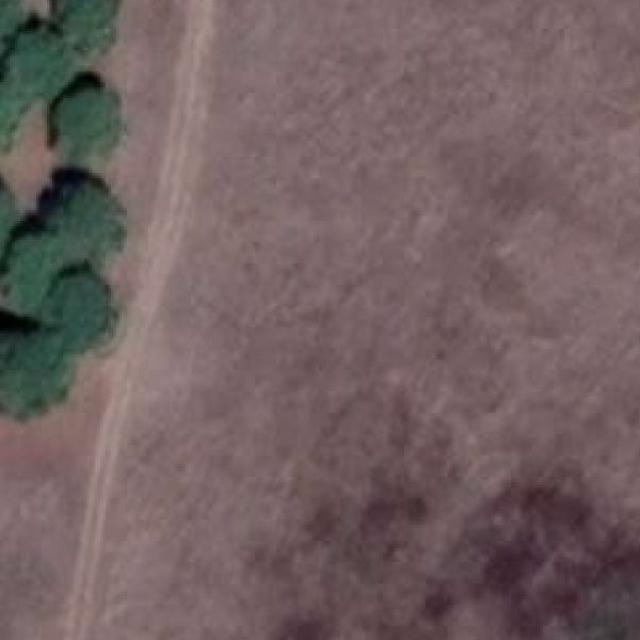Tree: (0, 332, 68, 410), (58, 189, 114, 261), (50, 277, 107, 347), (10, 237, 63, 309), (13, 32, 71, 96), (61, 90, 117, 152), (0, 77, 26, 162), (63, 0, 111, 45), (0, 0, 26, 61)
